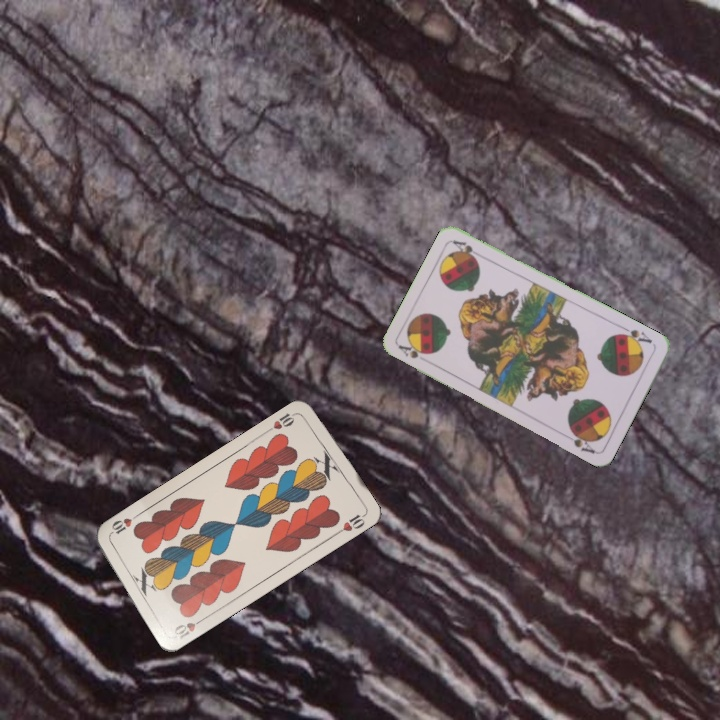H10: (170, 613, 208, 642), (264, 408, 301, 434)
SA: (615, 323, 655, 349), (394, 341, 430, 361)
